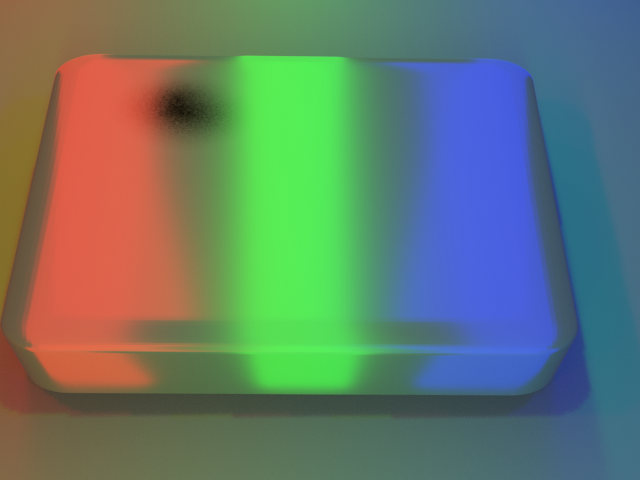stain: (60, 42, 263, 149)
